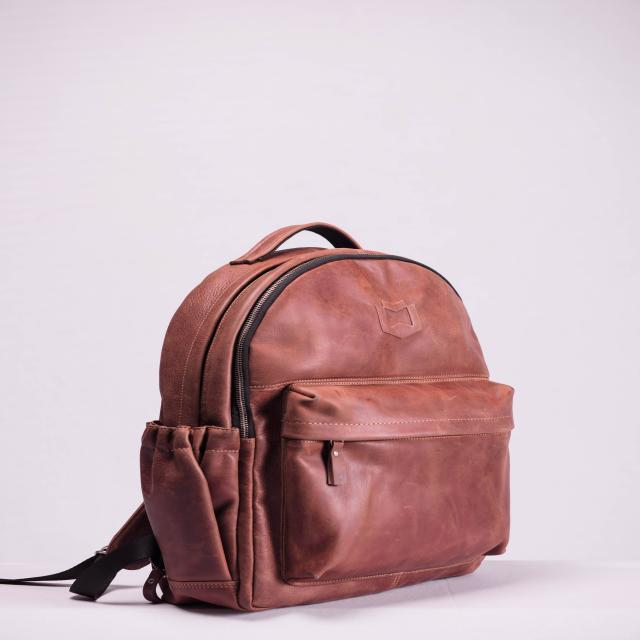backpack: (78, 213, 516, 614)
